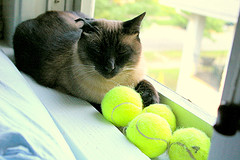tennis ball: (126, 113, 173, 160), (100, 85, 144, 129), (168, 126, 211, 160), (143, 104, 178, 134)
